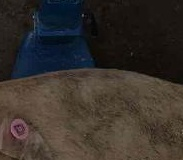text: (0, 111, 40, 146)
